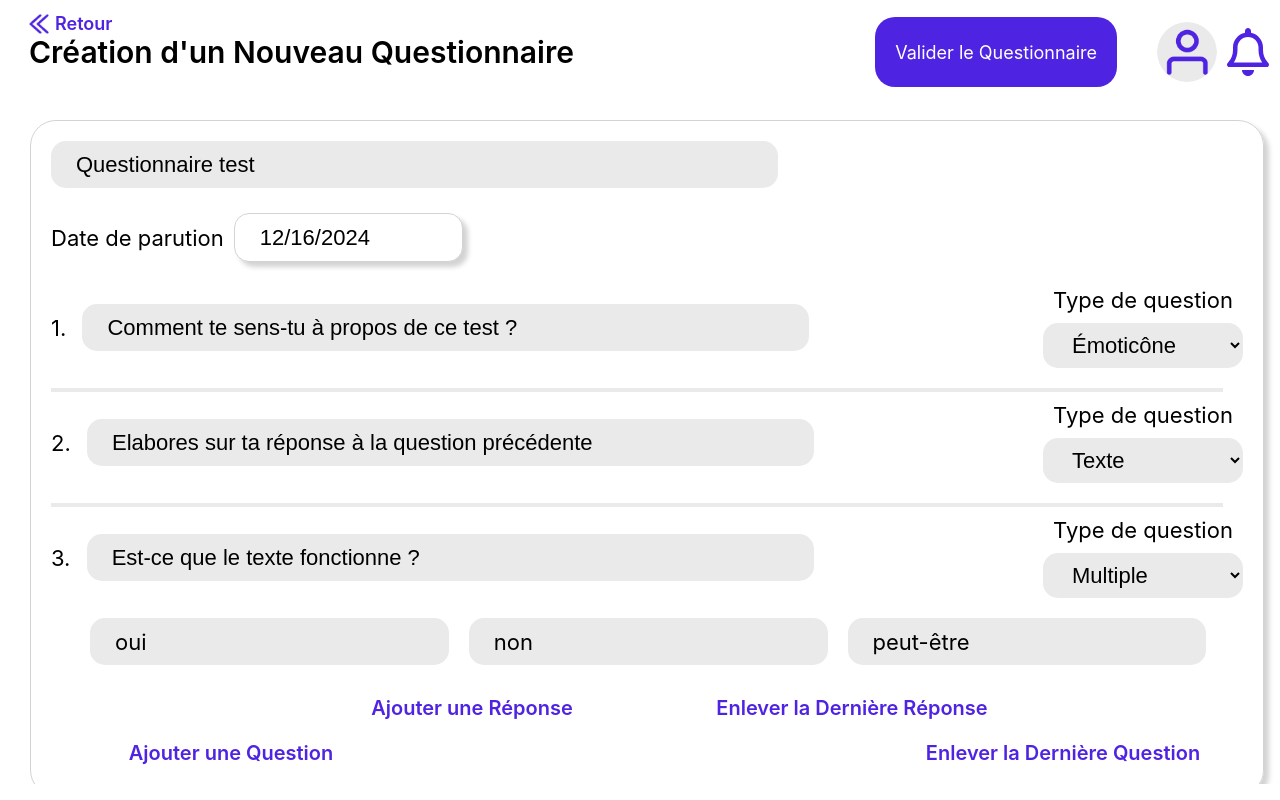
Test: ModifyFormTeacherPage › adds and removes an answer
Click the button "Ajouter une Réponse": click(472, 708) [297,685,647,730]
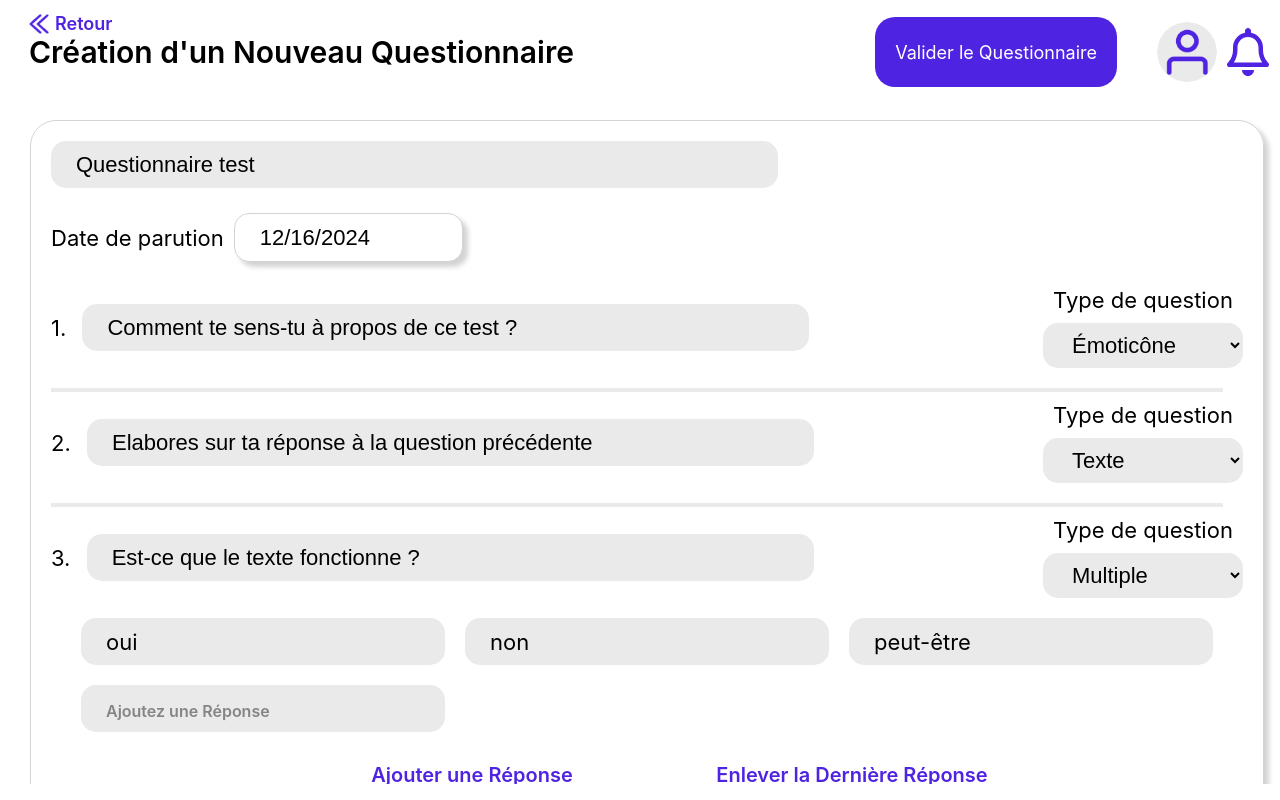
Expected: the number of fields with placeholder "Ajoutez une Réponse" is 4, [81,618,445,665]; [465,618,829,665]; [849,618,1213,665]; [81,685,445,732]
Click the button "Enlever la Dernière Réponse": click(852, 774) [677,752,1027,797]
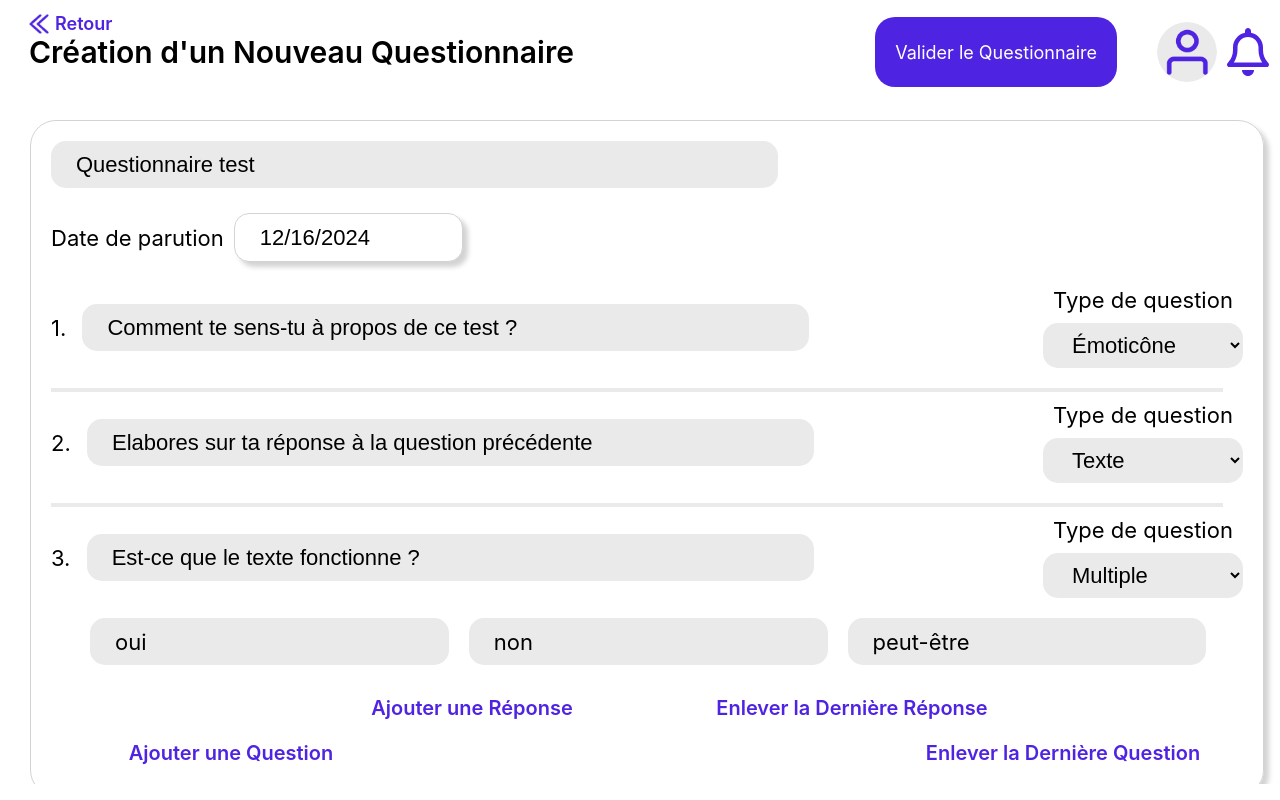
Expected: the number of fields with placeholder "Ajoutez une Réponse" is 3, [90,618,449,665]; [469,618,828,665]; [848,618,1206,665]
